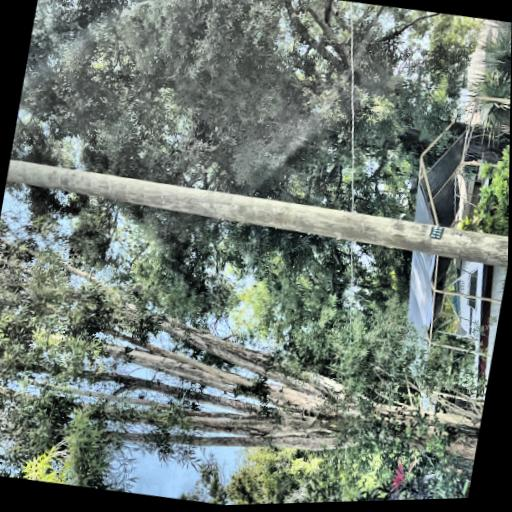pole: (64, 0, 227, 496)
